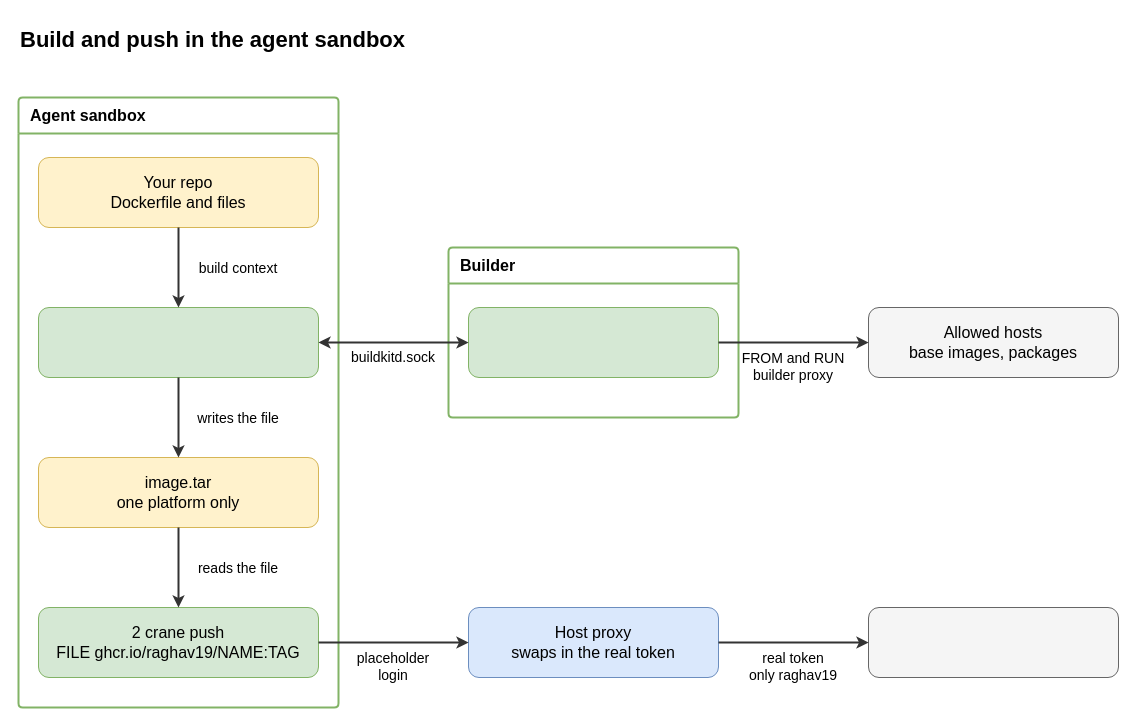
Image size: 1136x725. Some labels were removed from this diagram. Each missing label, with the centre of its shape:
1 docker build --output type=docker: (x=178, y=342)
BuildKit runs the Dockerfile: (x=593, y=342)
ghcr.io raghav19/NAME:TAG: (x=993, y=642)
